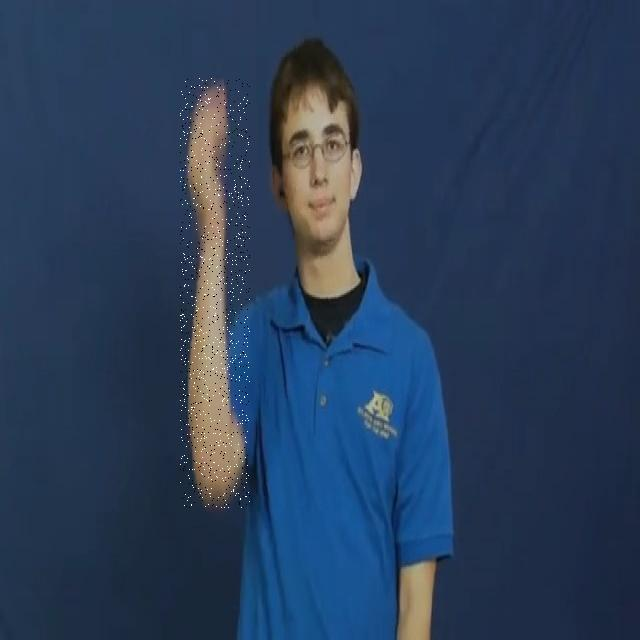lettuce: (180, 78, 250, 508)
